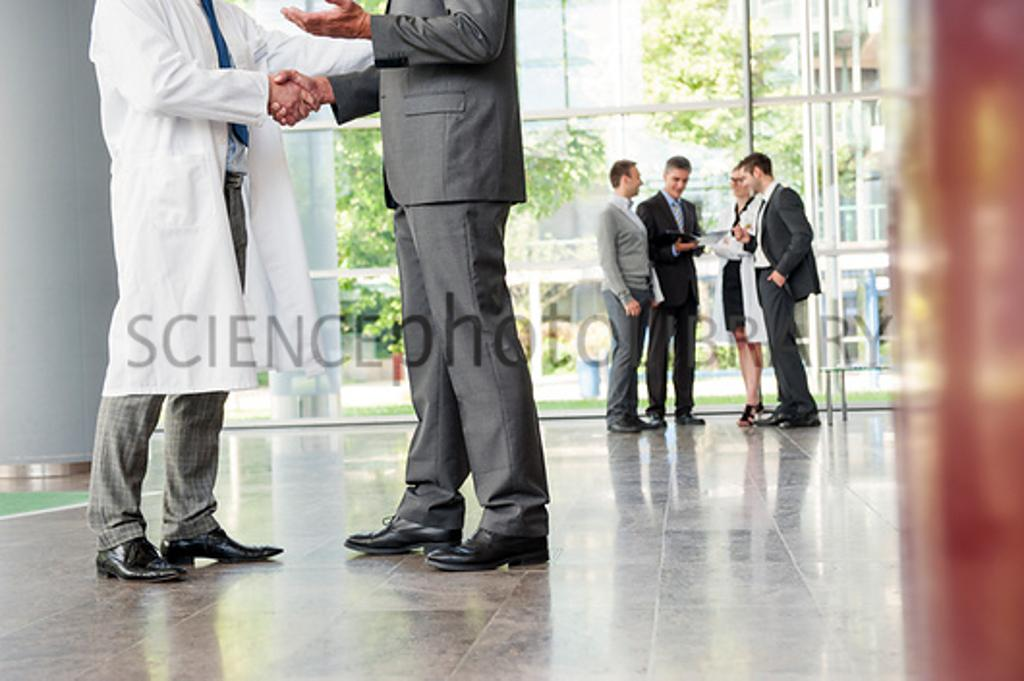face: (666, 168, 687, 197), (626, 166, 643, 194), (739, 166, 756, 190), (729, 172, 746, 196)
